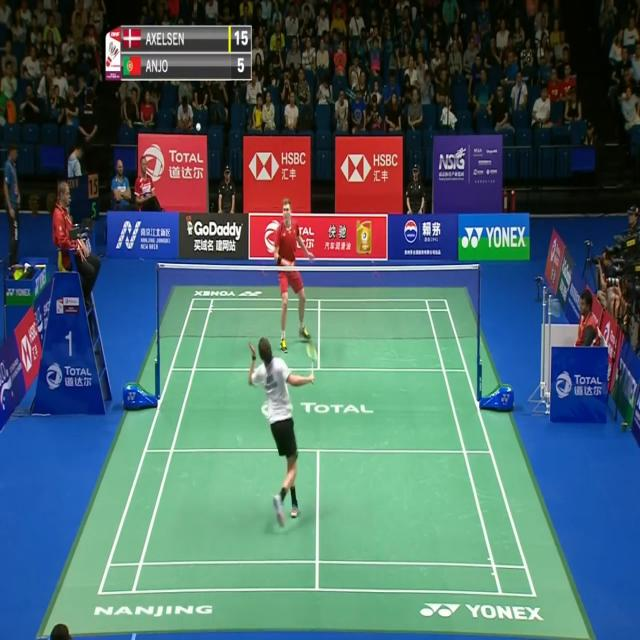Player1: (248, 333, 316, 535)
Player2: (273, 194, 316, 353)
